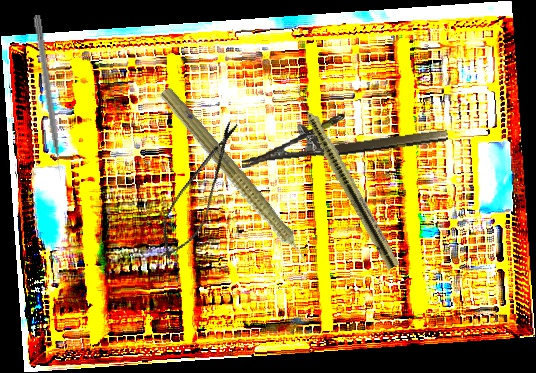Handpiece: (151, 83, 326, 283), (287, 82, 403, 271)
Micro Scissor: (149, 114, 249, 267)
Needle Holder: (237, 101, 449, 169)
Pusher: (31, 14, 65, 181)
